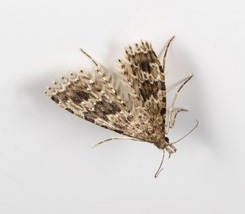Alucitidae: (38, 32, 202, 178)
moth: (40, 34, 204, 180)
